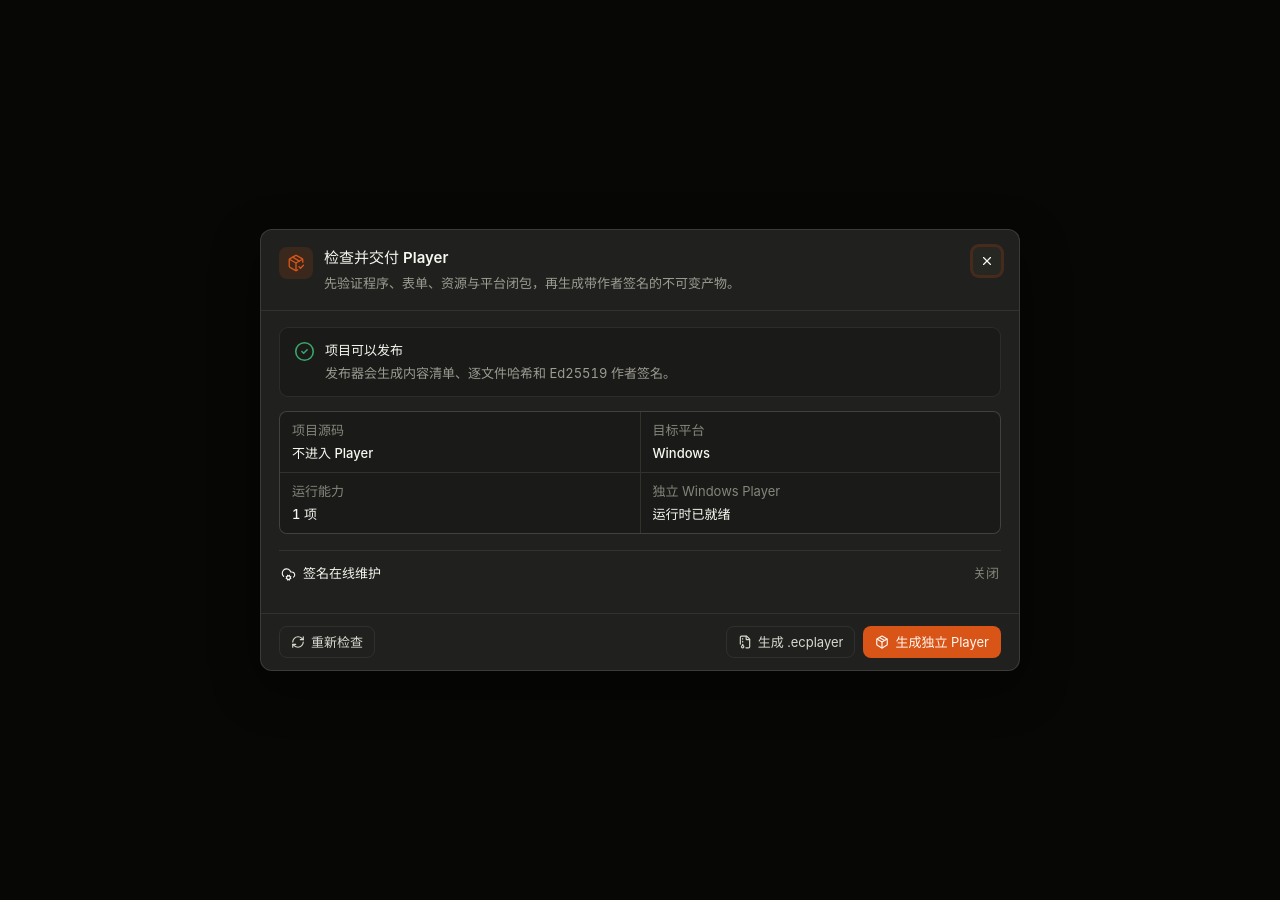
Scenario: VNextPublishDialog › 只在后端检查通过后生成签名项目包
Click the button "生成 .ecplayer" at (791, 642), box [726,626,855,658]
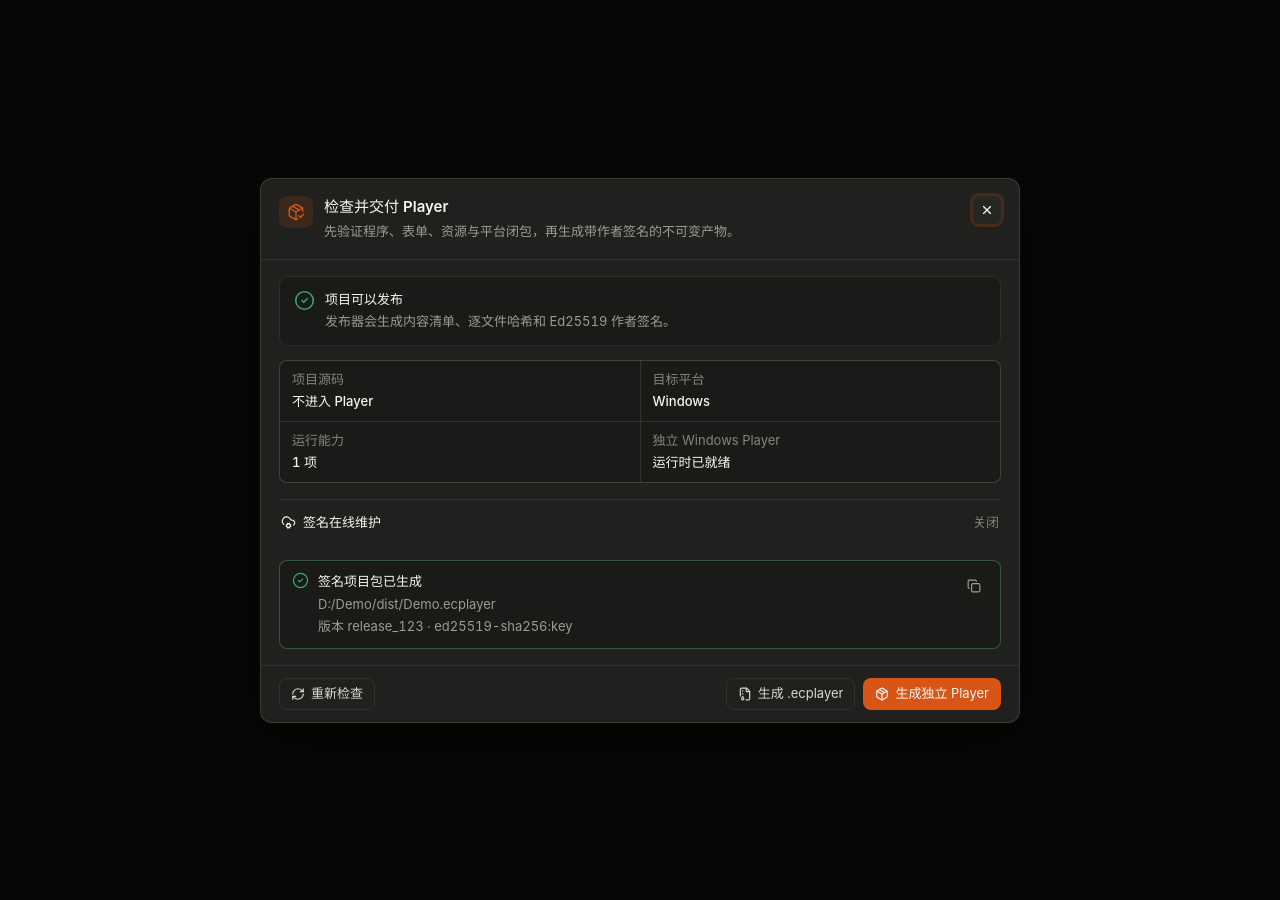
Check: the text "签名项目包已生成" is shown, box [318,573,422,589]
Check: the text "release_123" is shown, box [318,618,572,634]
